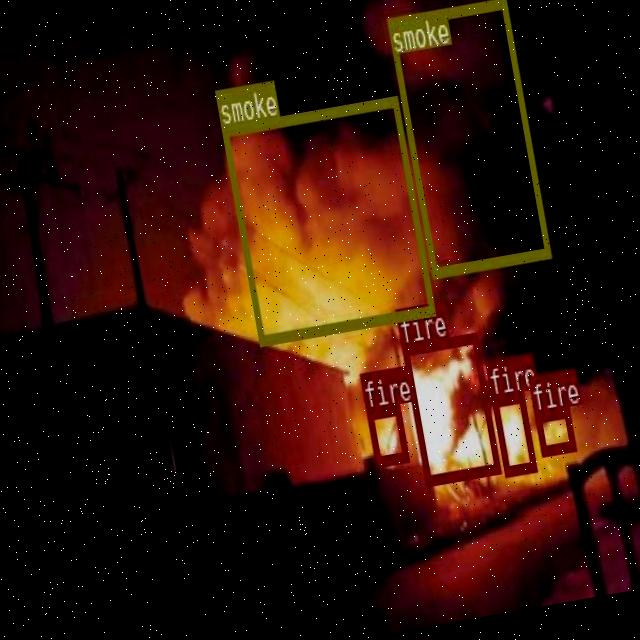fire: (400, 330, 500, 484), (490, 390, 536, 476), (365, 404, 407, 466), (533, 406, 574, 454)
smoke: (220, 94, 433, 345), (385, 0, 549, 275)
